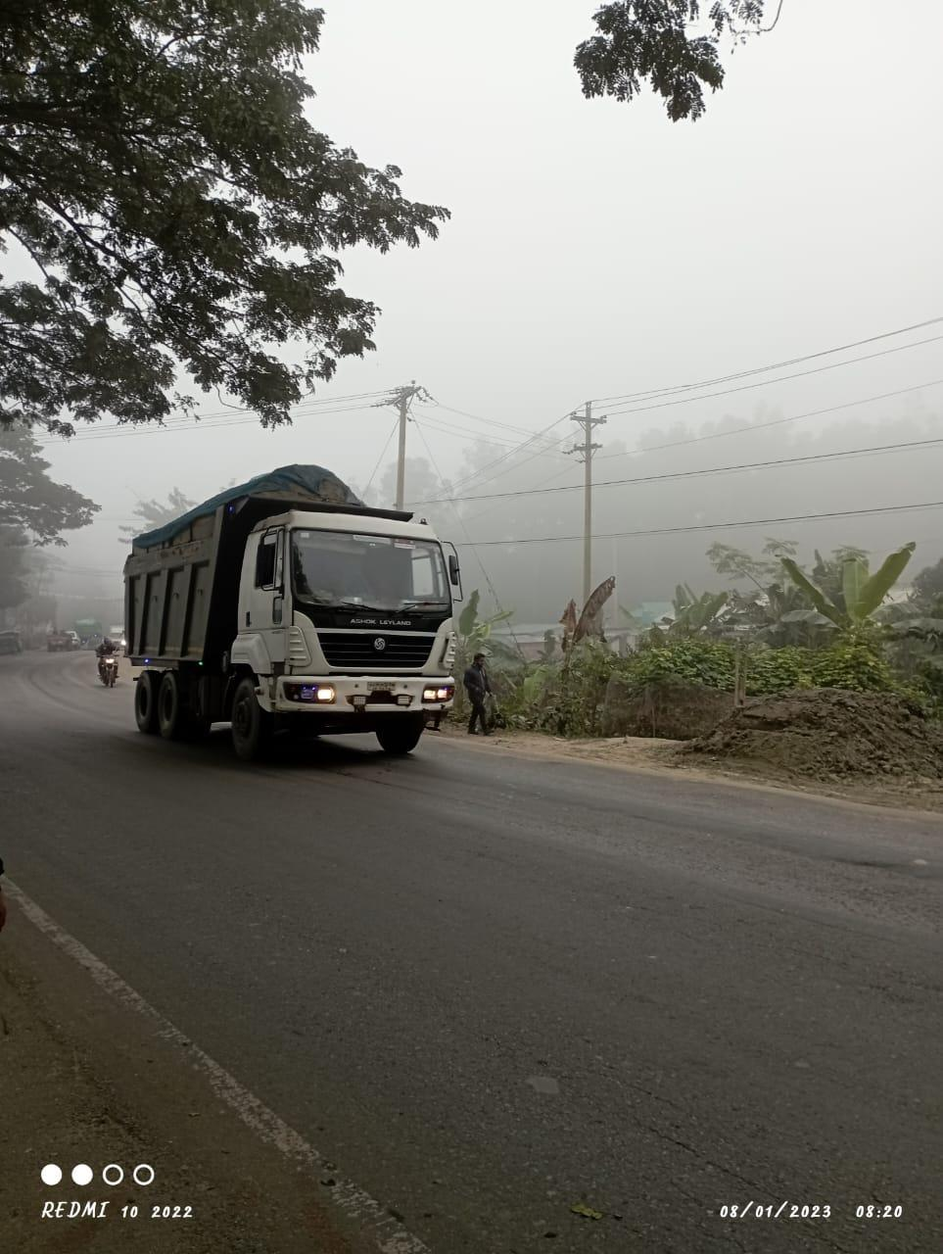Bike: (80, 634, 133, 700)
Truck: (114, 456, 471, 785)
